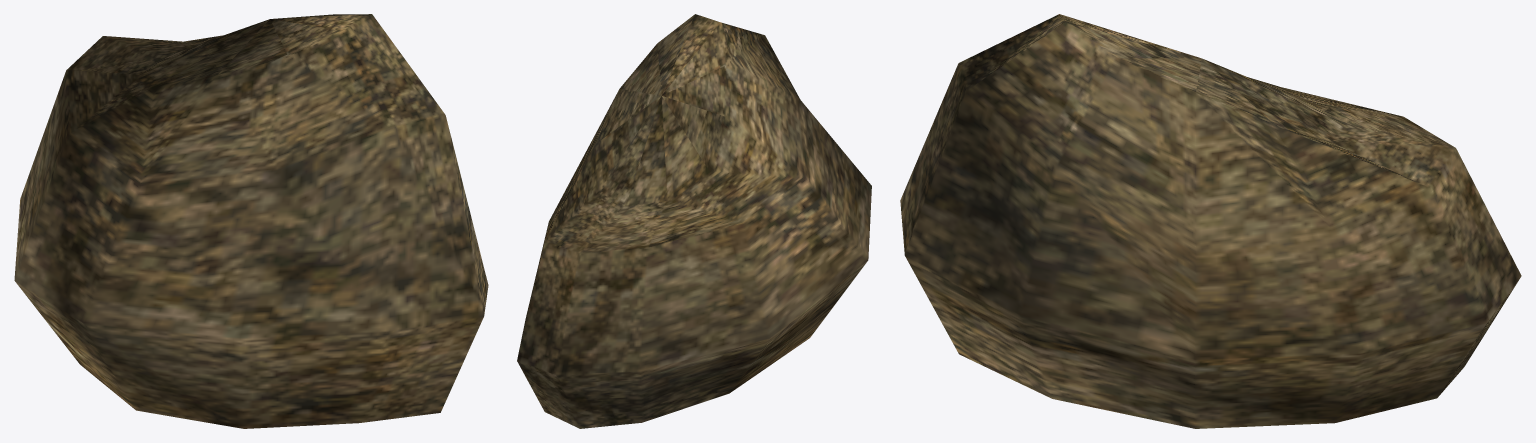
Rendered from CH09_SMAUG_PLAYSURFACE_LONELYMOUNTAIN_LM_PLAYSURFACE34.fbx.
3 renders of one model, left to right at view 1: azimuth 30°, elevation 25°; view 2: azimuth 150°, elevation 25°; view 3: azimuth 270°, elevation 25°, orthographic. The views are drawn at different scales.
Visible parts, largest first — view 1: CH09_SMAUG_PLAYSURFACE_LONELYMOUNTAIN_LM_PLAYSURFACE34; view 2: CH09_SMAUG_PLAYSURFACE_LONELYMOUNTAIN_LM_PLAYSURFACE34; view 3: CH09_SMAUG_PLAYSURFACE_LONELYMOUNTAIN_LM_PLAYSURFACE34.
Part boxes in pixels (left/top/right/bottom): CH09_SMAUG_PLAYSURFACE_LONELYMOUNTAIN_LM_PLAYSURFACE34: left=14, top=14, right=488, bottom=428; CH09_SMAUG_PLAYSURFACE_LONELYMOUNTAIN_LM_PLAYSURFACE34: left=517, top=14, right=871, bottom=428; CH09_SMAUG_PLAYSURFACE_LONELYMOUNTAIN_LM_PLAYSURFACE34: left=900, top=14, right=1521, bottom=428.
Bounding box in the file's own units: 34195 × 35099 × 52670.
1 material, 1 textured.
